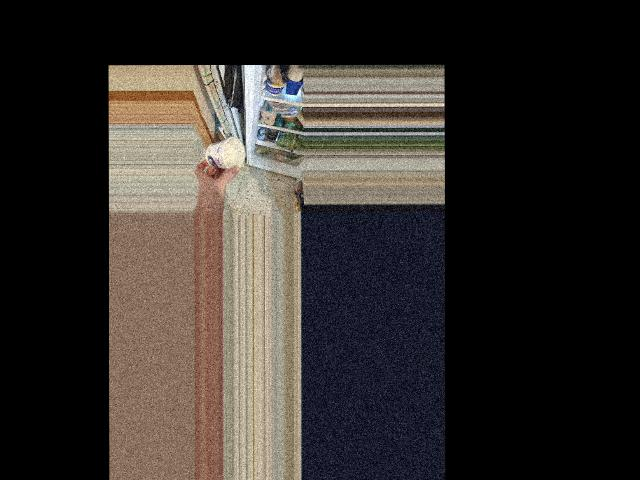cotage: (203, 137, 244, 174)
